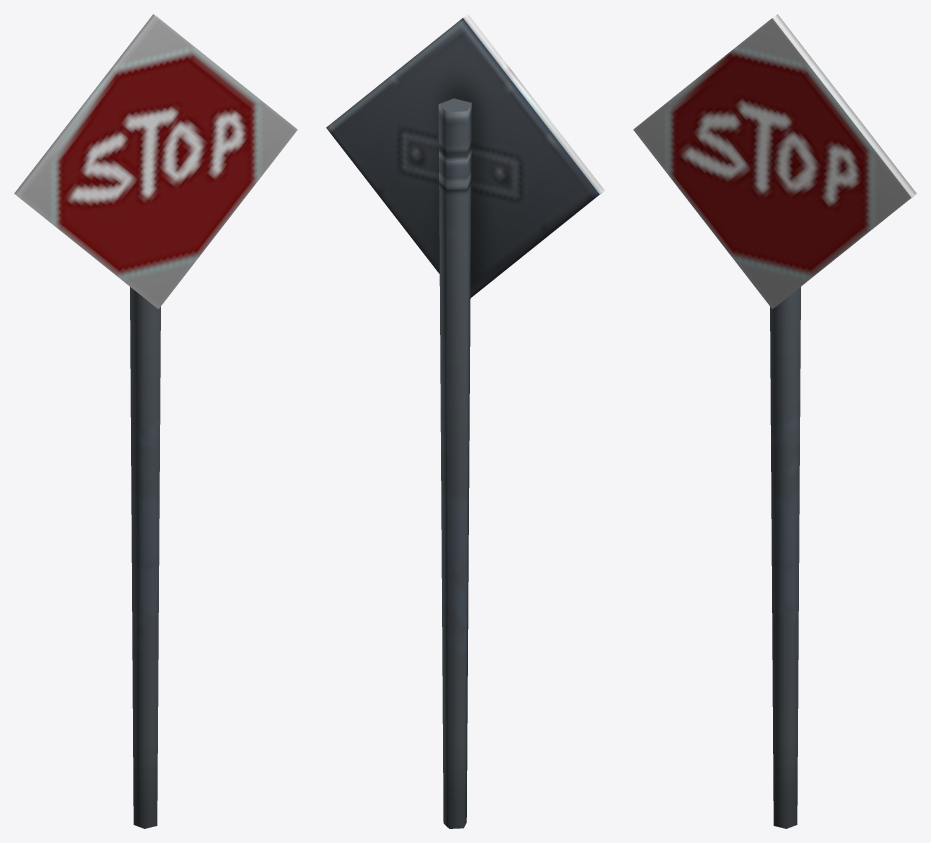
Rendered from Signboard5.fbx.
3 views of the same model, side by side, from view 1: azimuth 30°, elevation 25°; view 2: azimuth 150°, elevation 25°; view 3: azimuth 330°, elevation 25° (orthographic).
Parts seen in each view (by area): view 1: polySurface140; view 2: polySurface140; view 3: polySurface140.
Part boxes in pixels (box(x1,y1,x2,y2)): polySurface140: box(14, 14, 297, 828); polySurface140: box(326, 14, 604, 828); polySurface140: box(633, 14, 916, 828).
Size of the model in its own units: 1.35 by 3.78 by 0.1806.
Materials: 1 (1 with a texture image).
